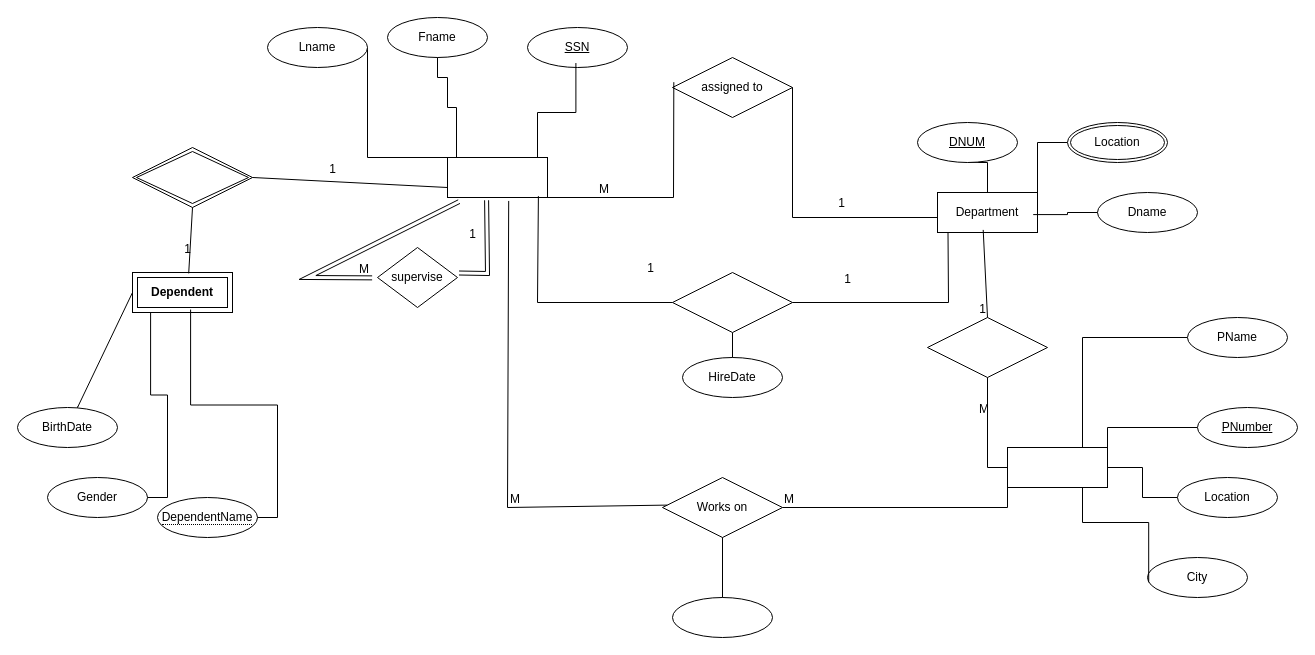
This 1315x655 diagram has some shape labels left out. The shapes that lost their labels are listed below. From the top down, each one's centre as x and y in pixels, then its label:
At point 192,177: "has dependent".
At point 497,177: "Employee".
At point 732,302: "manage by".
At point 987,347: "belongs to".
At point 1057,467: "Project".
At point 722,617: "WorkingHours".
